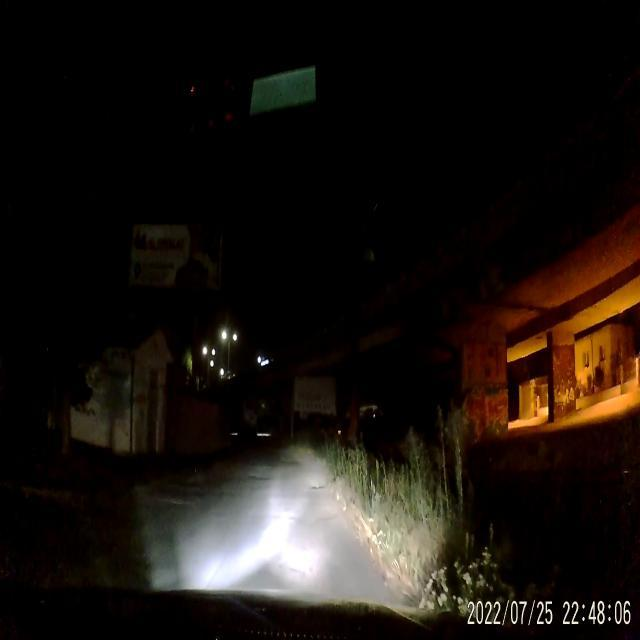Pothole: (308, 484, 326, 492)
